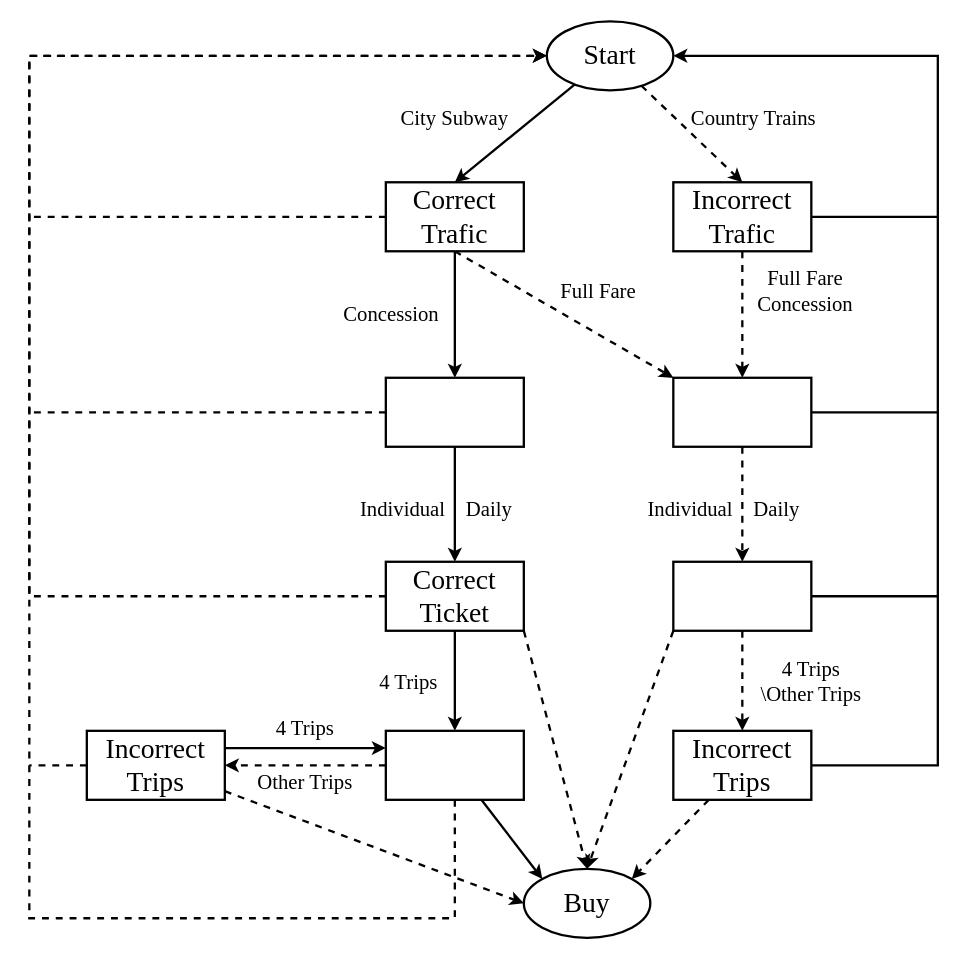
This 967x958 diagram has some shape labels left out. The centre of each missing label's shape, as x and y in pixels:
Correct Discount: point 454,411
Correct Trips: point 454,764
Incorrect Discount: point 742,411
Incorrect Ticket: point 742,595
